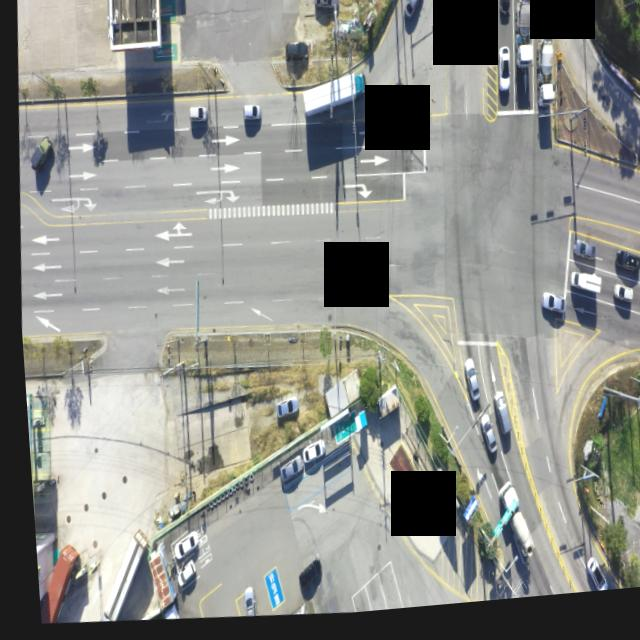car: (24, 136, 52, 175), (288, 559, 314, 599), (483, 397, 503, 443), (470, 418, 491, 461), (457, 364, 476, 411), (575, 565, 599, 602), (163, 533, 188, 563), (494, 54, 509, 99), (272, 461, 296, 488), (293, 442, 317, 468), (535, 300, 561, 323), (168, 562, 188, 591), (612, 261, 638, 283), (568, 248, 592, 271), (231, 589, 247, 621), (269, 401, 293, 422), (282, 44, 306, 65), (403, 0, 423, 25), (607, 293, 628, 313), (496, 0, 511, 27), (185, 109, 205, 127), (312, 0, 336, 15), (238, 108, 257, 125), (537, 0, 551, 22), (636, 301, 640, 333)
medium_truck: (88, 528, 139, 623), (297, 74, 366, 126), (487, 486, 529, 570), (510, 0, 535, 77), (532, 49, 556, 120)
small_truck: (564, 278, 599, 308)
